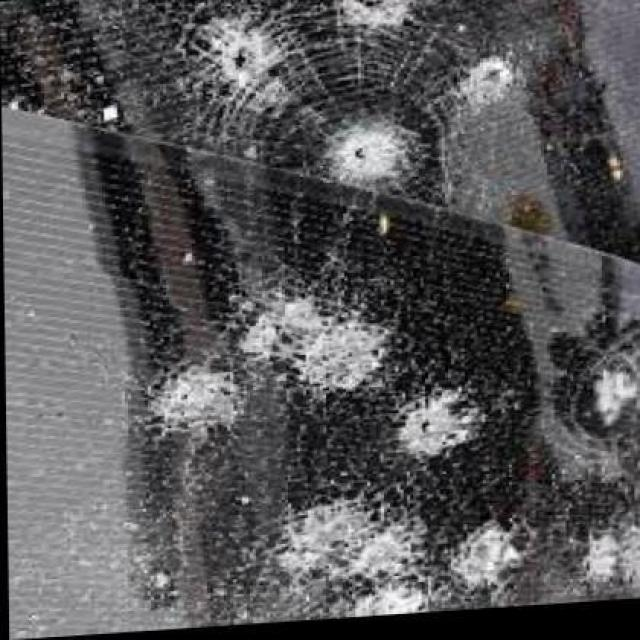cracked: (3, 1, 640, 618)
